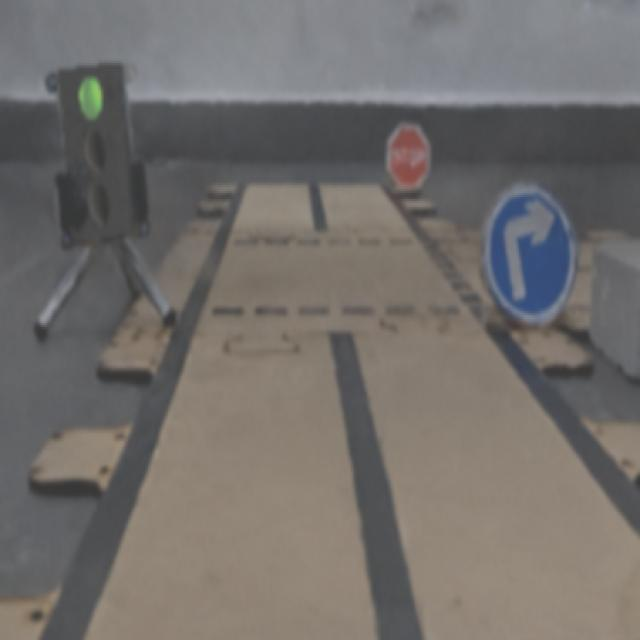RIGHT: (484, 185, 576, 323)
STOP: (385, 122, 430, 191)
